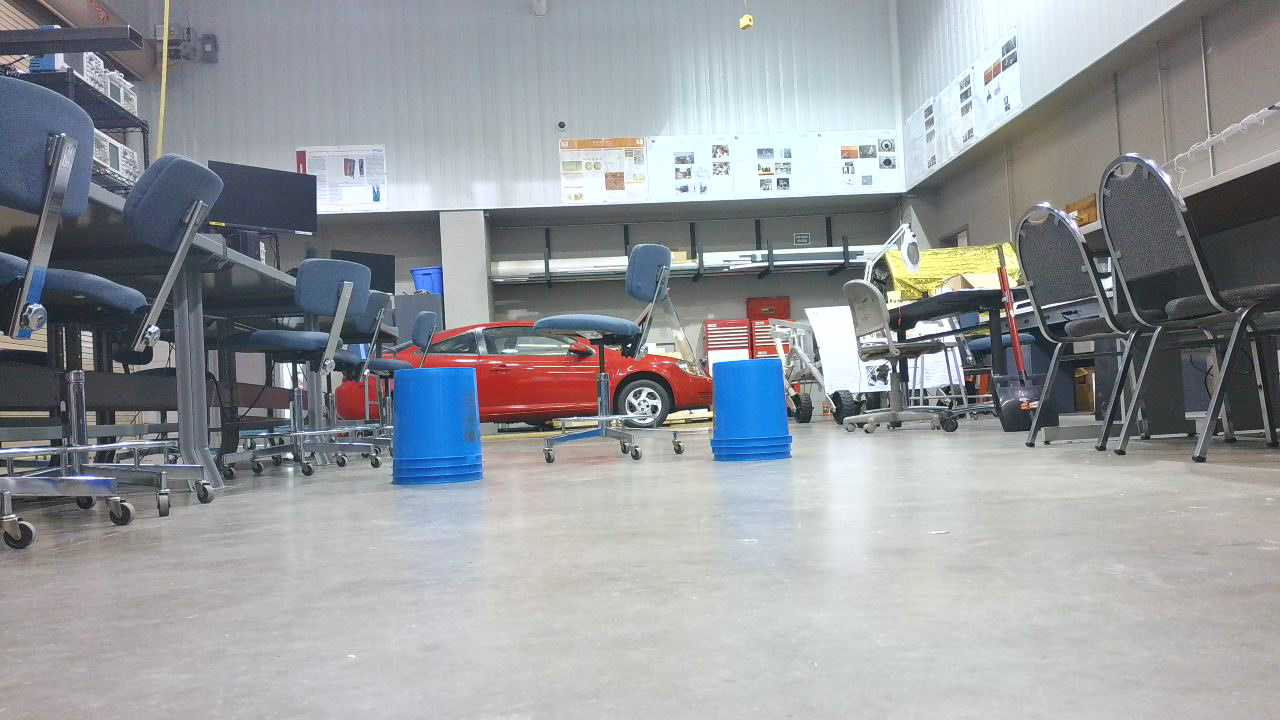blue_bucket: (395, 369, 491, 492), (714, 363, 800, 469)
